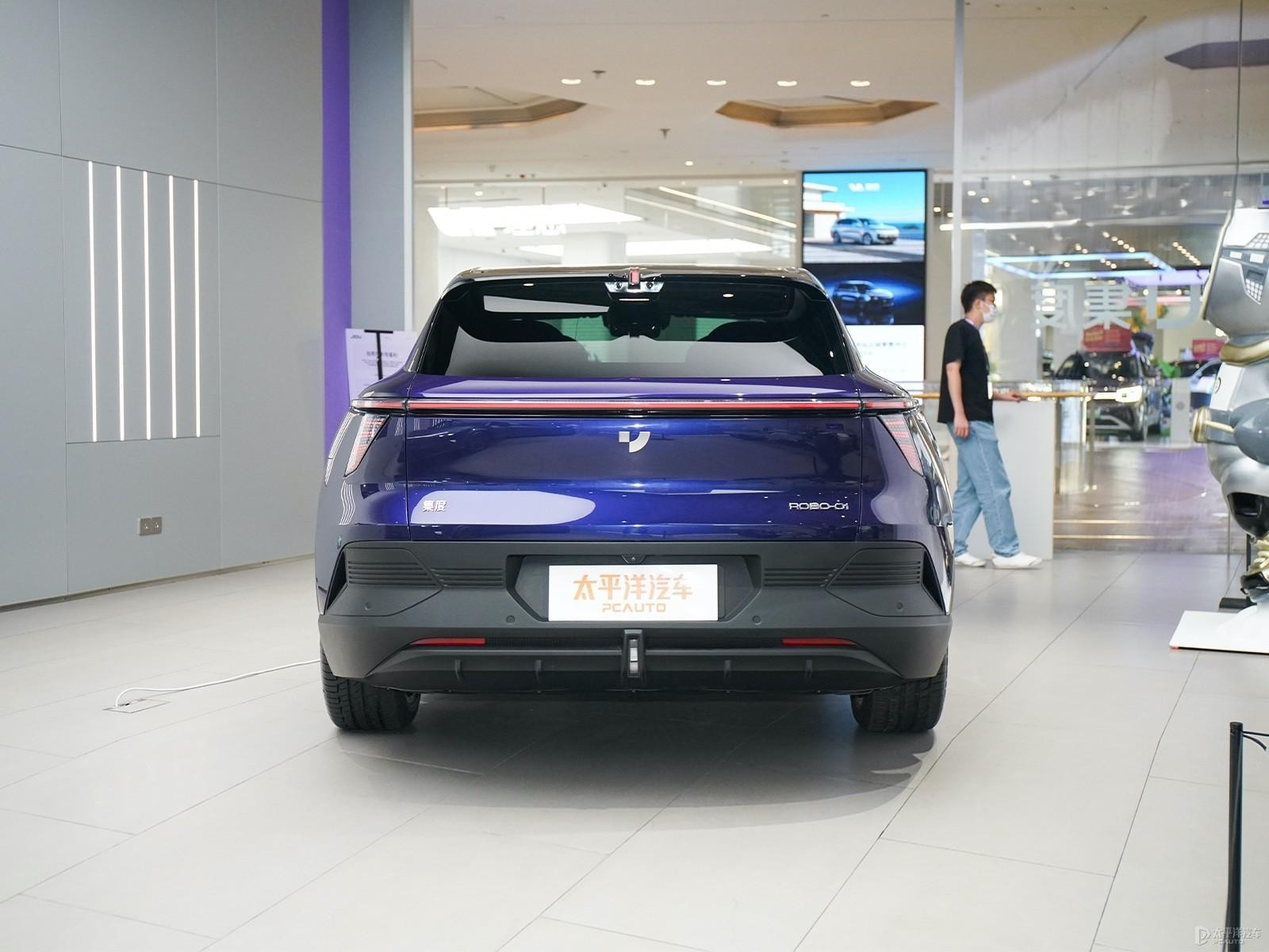JIYUE: (617, 430, 651, 453)
